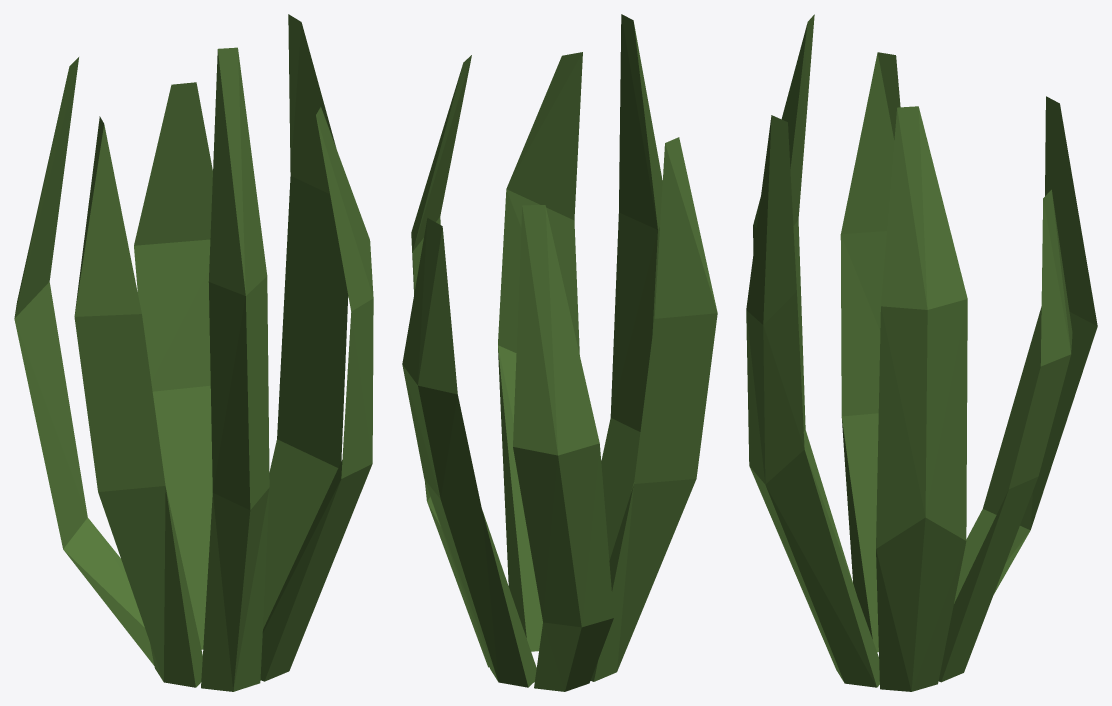
The model's file is Plant_24.fbx.
3 views of the same model, side by side, from view 1: azimuth 30°, elevation 25°; view 2: azimuth 150°, elevation 25°; view 3: azimuth 270°, elevation 25° (orthographic). The views are drawn at different scales.
Visible parts, largest first — view 1: Plant_24; view 2: Plant_24; view 3: Plant_24.
Boxes of the visible parts, box(x1,y1,x2,y2) form: Plant_24: box(14, 14, 373, 691); Plant_24: box(402, 14, 717, 691); Plant_24: box(746, 14, 1097, 691).
Size of the model in its own units: 0.549 by 1.18 by 0.5987.
